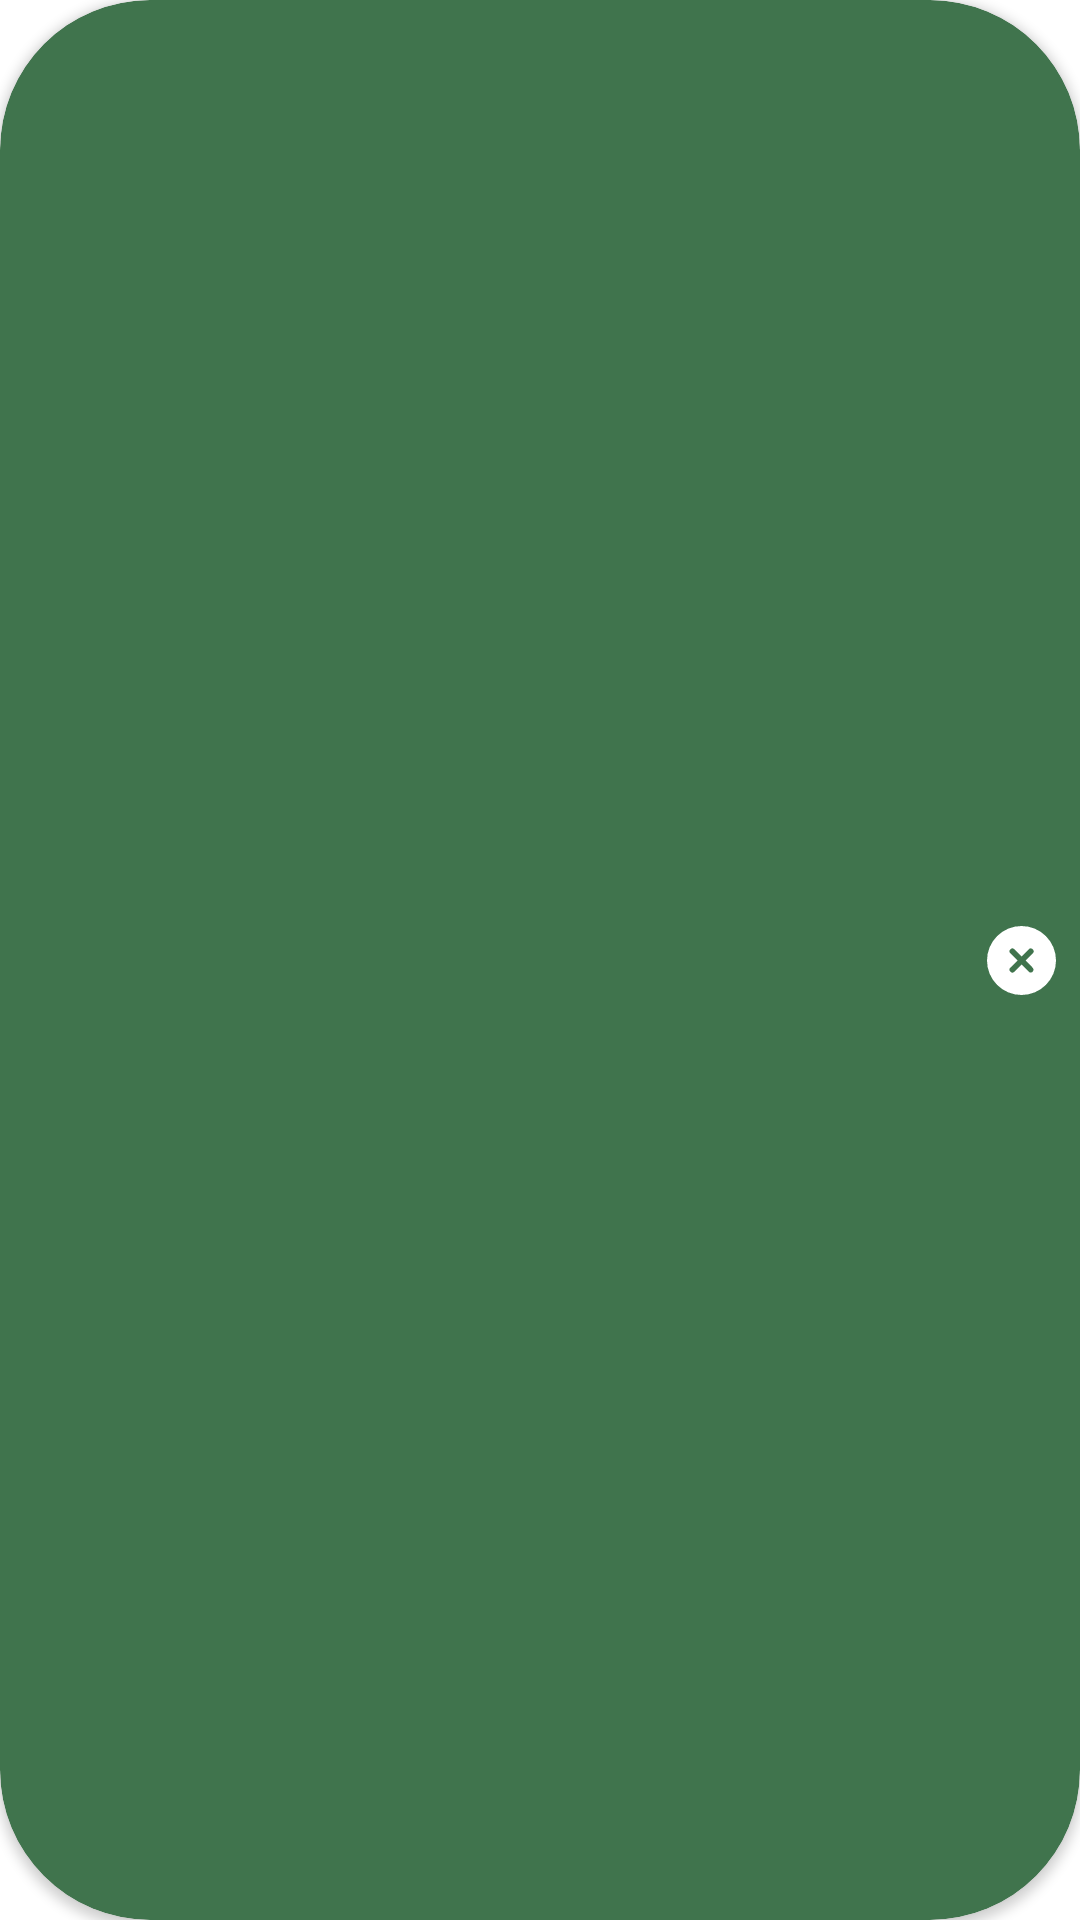

Screen size 1080 × 1920. Icon name, then its center in pixels as [x,y]:
close: [1021,960]
